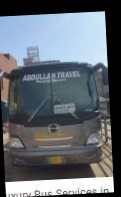bus: (2, 59, 109, 171)
